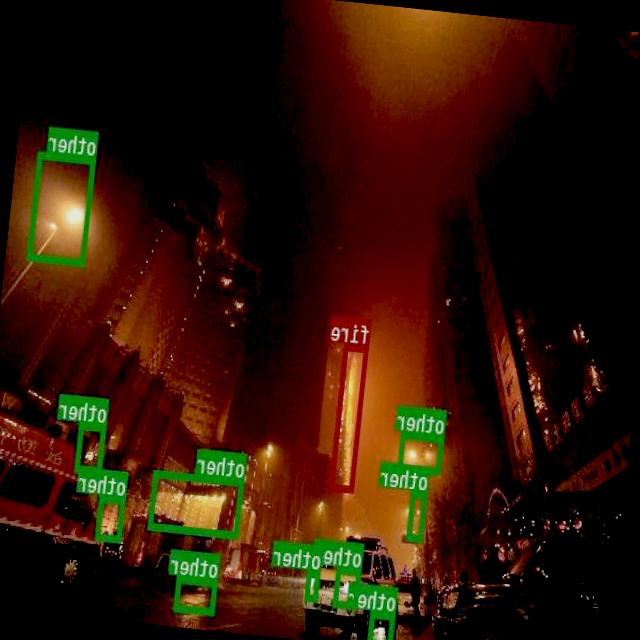fire: (330, 341, 370, 492)
